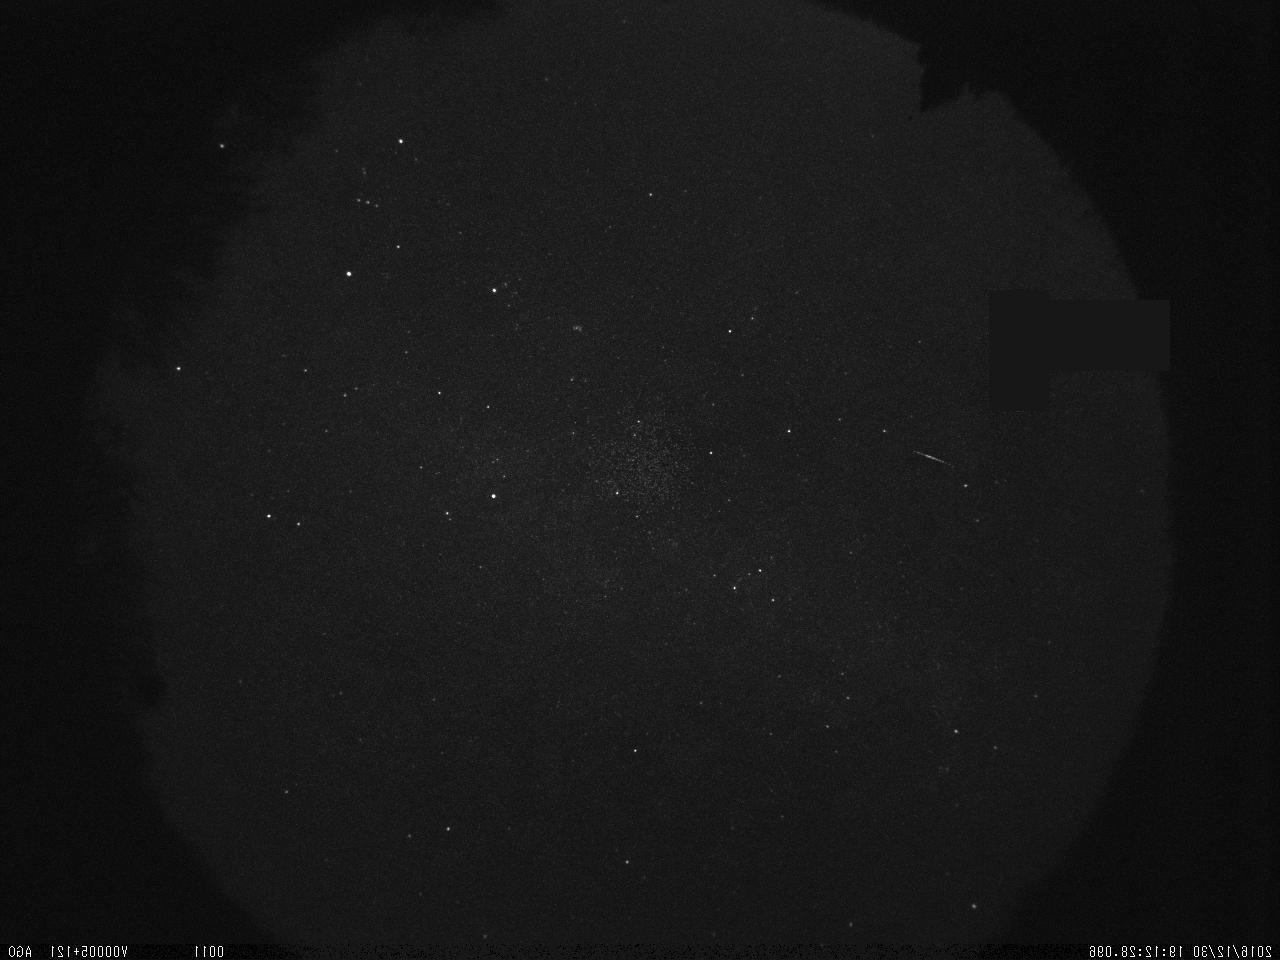meteor: (900, 439, 966, 480)
